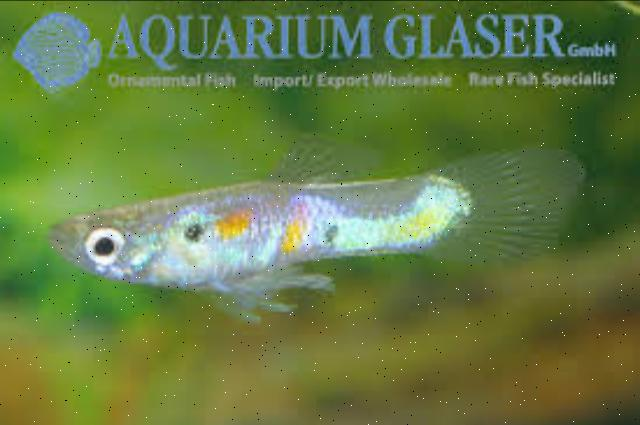Mulut: (19, 195, 82, 279)
Sirip Ekor: (404, 139, 608, 290)
Sirip Punggung: (247, 120, 397, 200)
